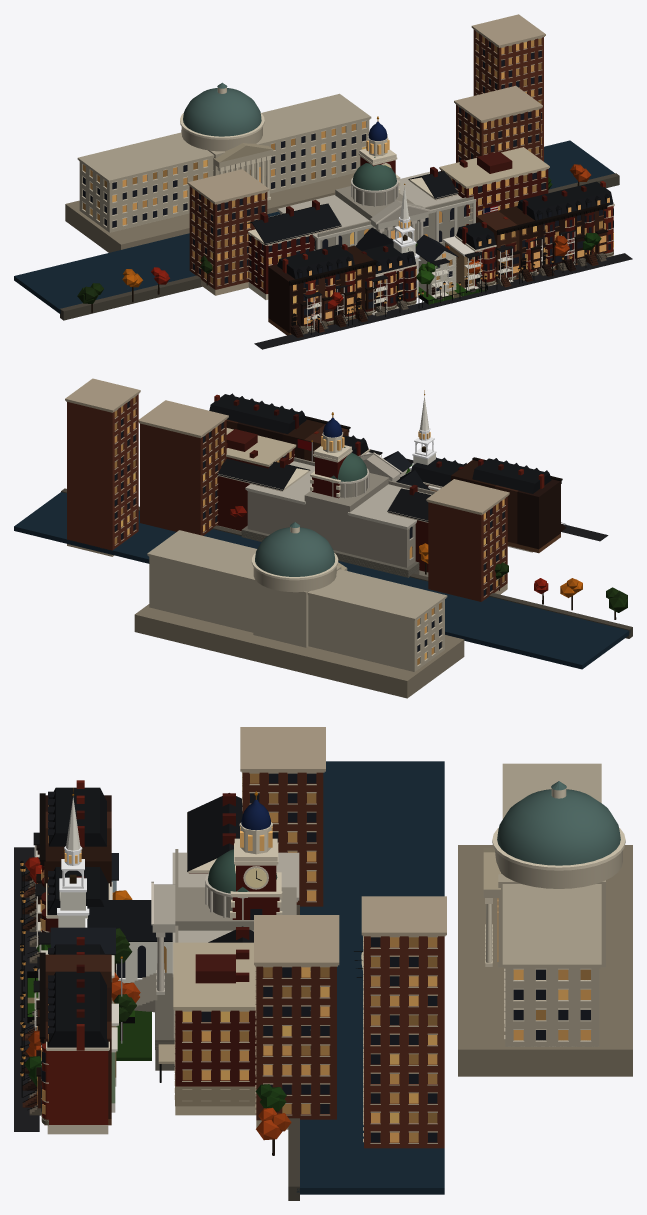
Rendered from town.glb.
3 renders of one model, top to bottom at view 1: azimuth 30°, elevation 25°; view 2: azimuth 150°, elevation 25°; view 3: azimuth 270°, elevation 25°, orthographic. The views are drawn at different scales.
Visible parts, largest first — view 1: court_Stone, camA_far_Stone, court_Brick, camA_river_Water, camB_Roof, camB_Brick, court_Glass, camB_Stone, camA_far_Metal, camB_Glass, camA_far_Glass, camA_Stone (+12 smaller); view 2: camA_far_Stone, court_Brick, court_Stone, camA_river_Water, camB_Roof, camB_Brick, camA_far_Metal, court_Glass, camB_Stone, camA_river_Foliage, camA_Stone, camA_river_Stone (+5 smaller); view 3: camA_far_Stone, camA_river_Water, court_Stone, court_Brick, camB_Roof, camA_Stone, court_Glass, camB_Brick, camA_far_Metal, camA_Brick, camB_Stone, camA_Roof (+13 smaller).
Part boxes in pixels (left/top/right/bottom): court_Stone: left=187, top=14, right=631, bottom=349; camA_far_Stone: left=65, top=87, right=371, bottom=252; court_Brick: left=189, top=30, right=543, bottom=289; camA_river_Water: left=14, top=140, right=614, bottom=314; camB_Roof: left=247, top=171, right=613, bottom=279; camB_Brick: left=248, top=152, right=613, bottom=325; court_Glass: left=192, top=32, right=606, bottom=324; camB_Stone: left=248, top=148, right=632, bottom=349; camA_far_Metal: left=183, top=82, right=261, bottom=136; camB_Glass: left=249, top=139, right=613, bottom=322; camA_far_Glass: left=83, top=121, right=365, bottom=227; camA_Stone: left=254, top=147, right=549, bottom=345; camA_far_Stone: left=134, top=527, right=464, bottom=698; court_Brick: left=67, top=394, right=507, bottom=601; court_Stone: left=65, top=378, right=602, bottom=597; camA_river_Water: left=14, top=492, right=630, bottom=669; camB_Roof: left=209, top=393, right=551, bottom=521; camB_Brick: left=214, top=394, right=544, bottom=572; camA_far_Metal: left=255, top=522, right=334, bottom=576; court_Glass: left=114, top=397, right=504, bottom=595; camB_Stone: left=217, top=445, right=608, bottom=576; camA_river_Foliage: left=230, top=506, right=627, bottom=612; camA_Stone: left=226, top=428, right=604, bottom=541; camA_river_Stone: left=61, top=488, right=632, bottom=638; camA_far_Stone: left=458, top=763, right=632, bottom=1076; camA_river_Water: left=297, top=761, right=444, bottom=1194; court_Stone: left=14, top=727, right=446, bottom=1143; court_Brick: left=242, top=772, right=444, bottom=1148; camB_Roof: left=47, top=787, right=253, bottom=1047; camA_Stone: left=14, top=847, right=256, bottom=1131; court_Glass: left=37, top=773, right=437, bottom=1142; camB_Brick: left=41, top=780, right=279, bottom=1124; camA_far_Metal: left=497, top=781, right=620, bottom=865; camA_Brick: left=175, top=954, right=256, bottom=1086; camB_Stone: left=14, top=812, right=282, bottom=1134; camA_Roof: left=33, top=832, right=172, bottom=992.
Bounding box in the file's own units: 150 × 39.65 × 92.
